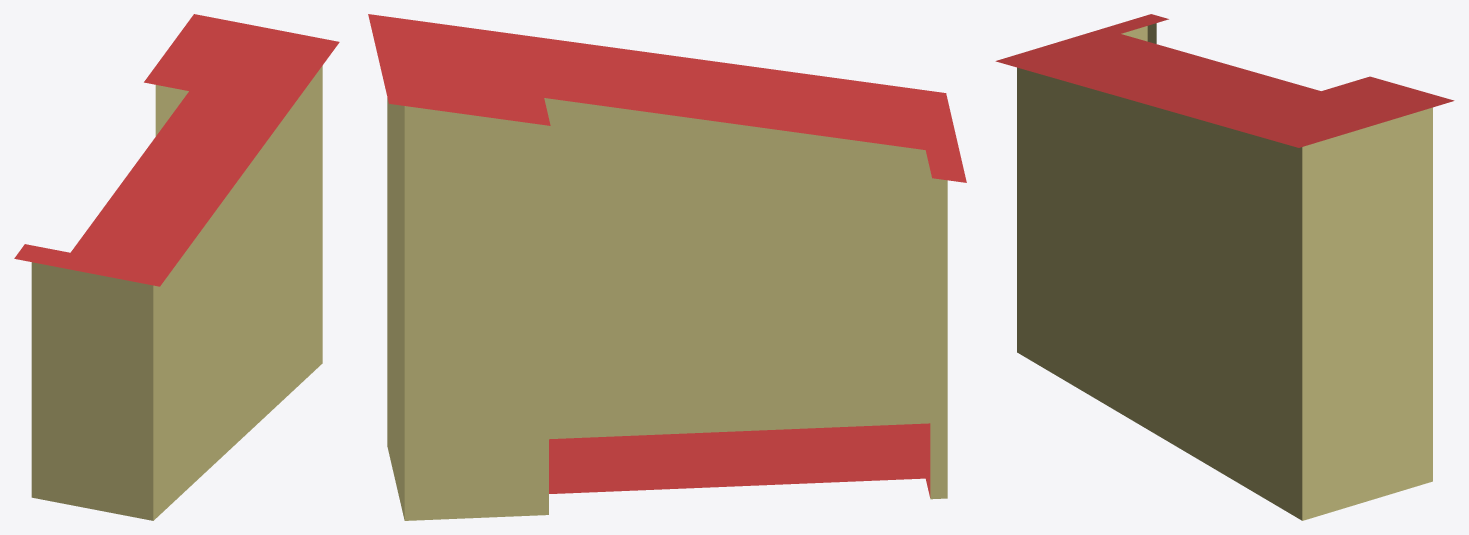
3 renders of one model, left to right at view 1: azimuth 30°, elevation 25°; view 2: azimuth 150°, elevation 25°; view 3: azimuth 270°, elevation 25°, orthographic. The views are drawn at different scales.
Bounding box in the file's own units: 8.52 × 7.3 × 6.7.
